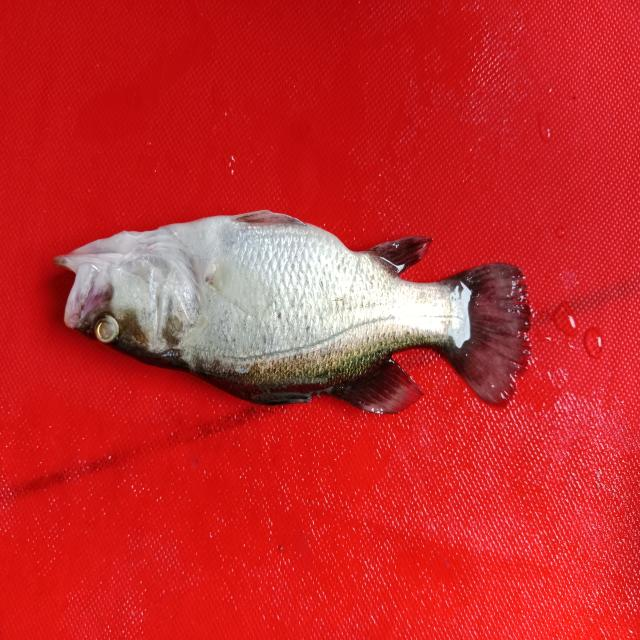ikan: (44, 164, 548, 434)
